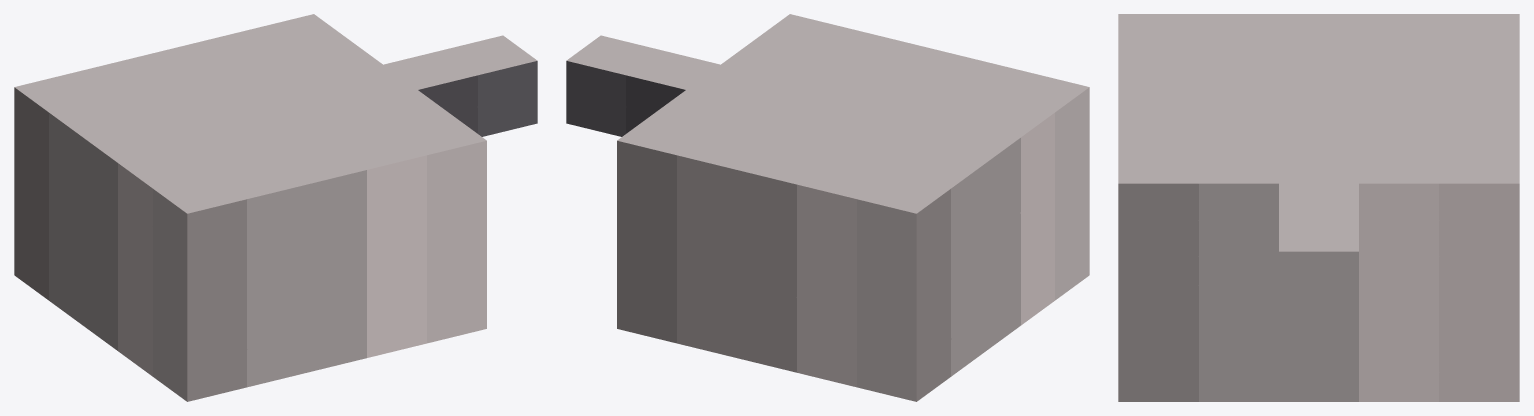
Rendered from int_kitchen_stuff3ao.fezao.glb.
The picture shows the model from 3 angles, left to right: view 1: azimuth 30°, elevation 25°; view 2: azimuth 150°, elevation 25°; view 3: azimuth 270°, elevation 25°; orthographic projection. The views are drawn at different scales.
Parts seen in each view (by area): view 1: INT_KITCHEN_STUFF3AO; view 2: INT_KITCHEN_STUFF3AO; view 3: INT_KITCHEN_STUFF3AO.
Part boxes in pixels (x1=…): INT_KITCHEN_STUFF3AO: x1=14, y1=14, x2=537, y2=401; INT_KITCHEN_STUFF3AO: x1=566, y1=14, x2=1089, y2=401; INT_KITCHEN_STUFF3AO: x1=1118, y1=14, x2=1519, y2=401.
Size of the model in its own units: 0.4375 by 0.1875 by 0.3125.
1 material, 1 textured.
